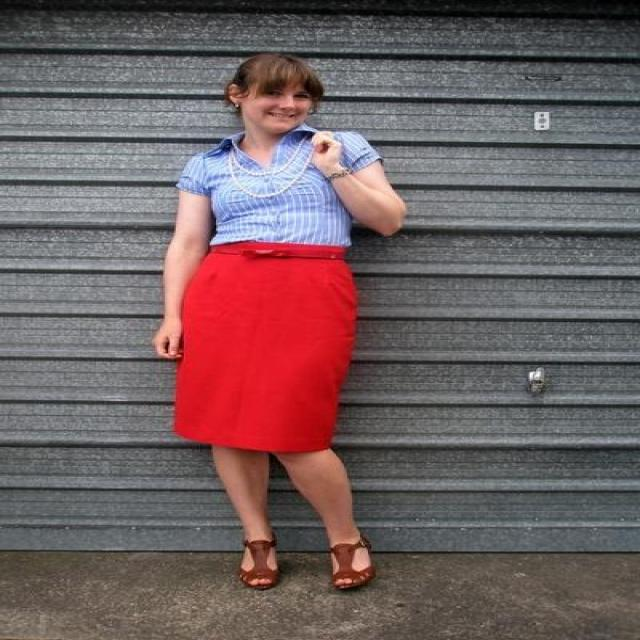shirt: (173, 116, 381, 246)
shoe: (243, 528, 379, 595)
skirt: (174, 240, 356, 454)
